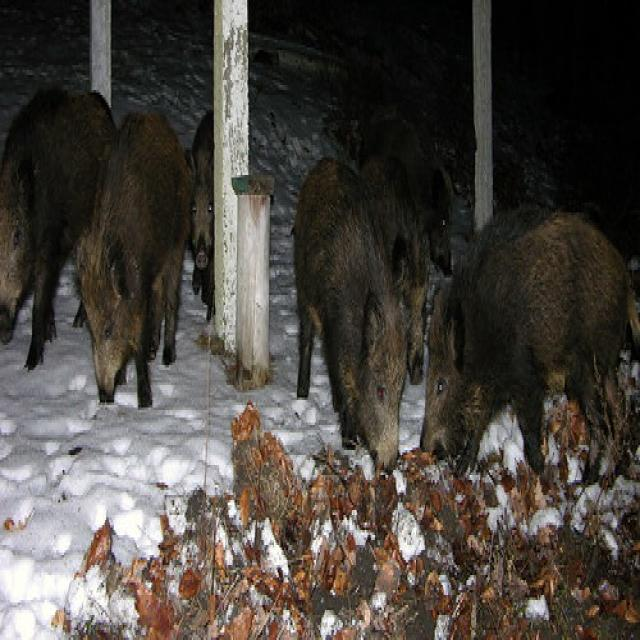boar: (416, 164, 640, 478), (277, 130, 415, 494), (67, 74, 202, 429), (0, 69, 125, 383), (339, 98, 458, 284), (173, 89, 257, 331)
